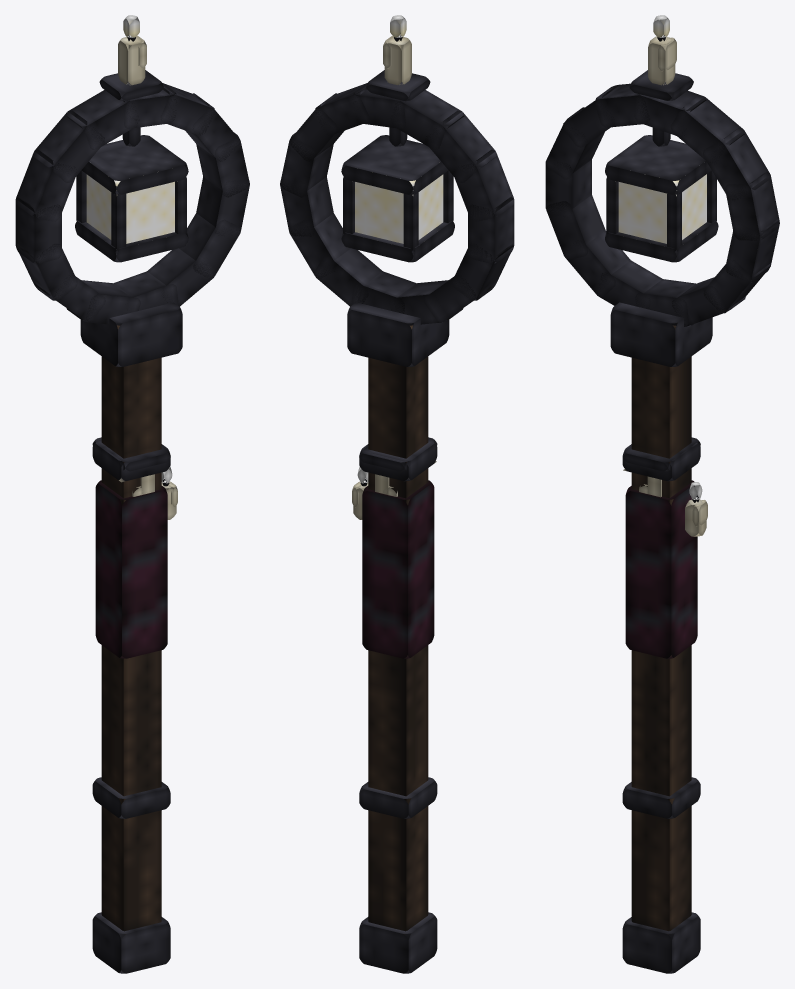
File: apprentice_white_staff.obj
3 renders of one model, left to right at view 1: azimuth 30°, elevation 25°; view 2: azimuth 150°, elevation 25°; view 3: azimuth 330°, elevation 25°, orthographic.
Parts seen in each view (by area): view 1: lit, fire; view 2: lit, fire; view 3: lit, fire.
Part boxes in pixels (x1=…): lit: x1=15, y1=35, x2=249, y2=973; fire: x1=86, y1=15, x2=177, y2=483; lit: x1=280, y1=33, x2=514, y2=973; fire: x1=352, y1=15, x2=443, y2=483; lit: x1=545, y1=35, x2=779, y2=973; fire: x1=615, y1=15, x2=706, y2=499.
Bounding box in the file's own units: 0.7148 × 2.96 × 0.2375.
